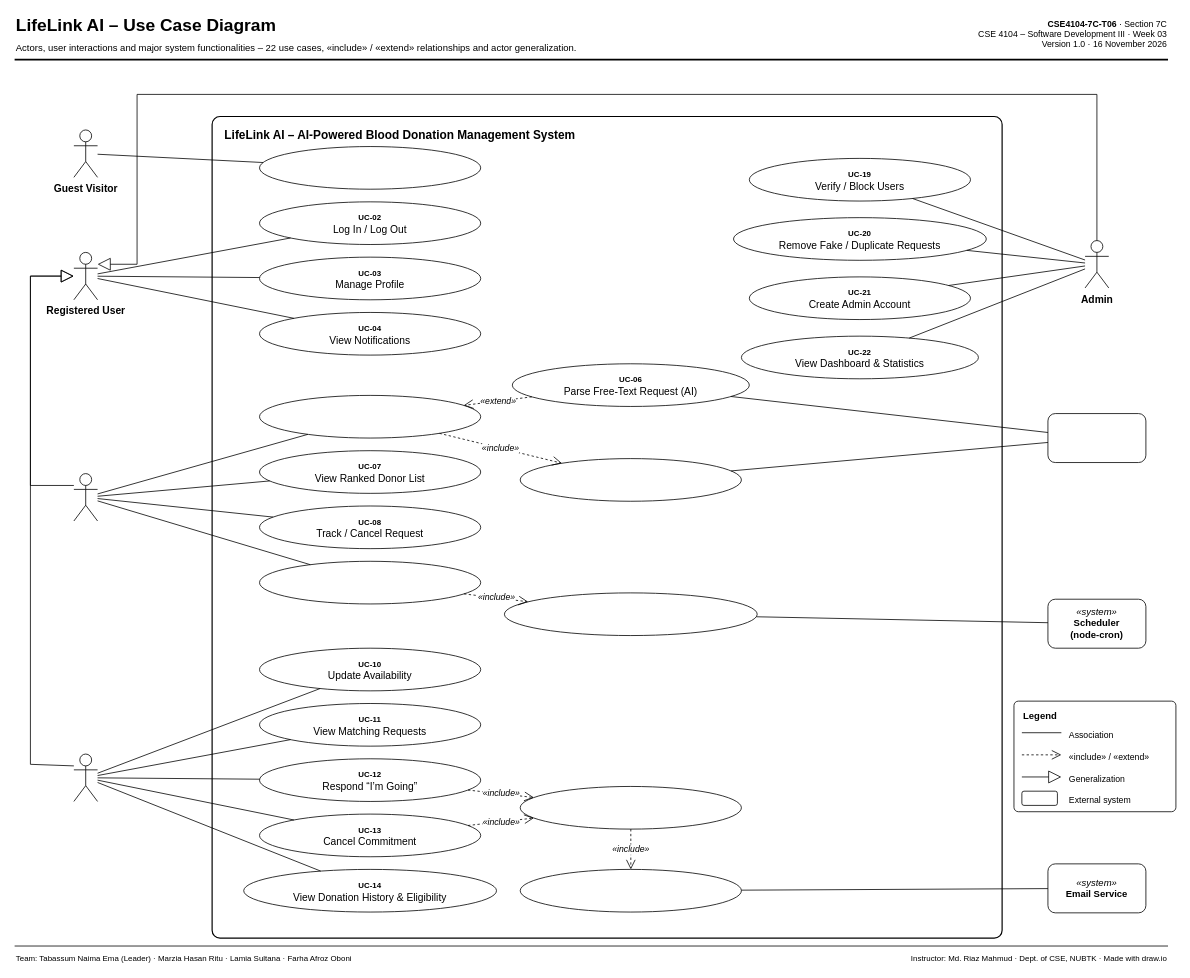
Some shapes in this 1190 by 978 pixel diagram are drawn without their labels. The box of each missing label's shape, as (x1, y1, x2, y2) in pixels:
Donor: (73, 753, 98, 801)
Requester: (73, 473, 98, 521)
UC-01 Register Account: (259, 146, 481, 189)
UC-05 Submit Blood Request: (259, 395, 481, 438)
UC-09 Confirm Donation: (259, 561, 481, 604)
UC-15 Match & Rank Donors (AI): (519, 458, 741, 501)
UC-16 Apply Cooldown & Send Reminder: (504, 592, 757, 636)
UC-17 Auto-Close / Reopen Request: (519, 786, 741, 829)
UC-18 Send Notifications: (519, 869, 741, 912)
«system» Gemini AI Service: (1047, 413, 1146, 463)
